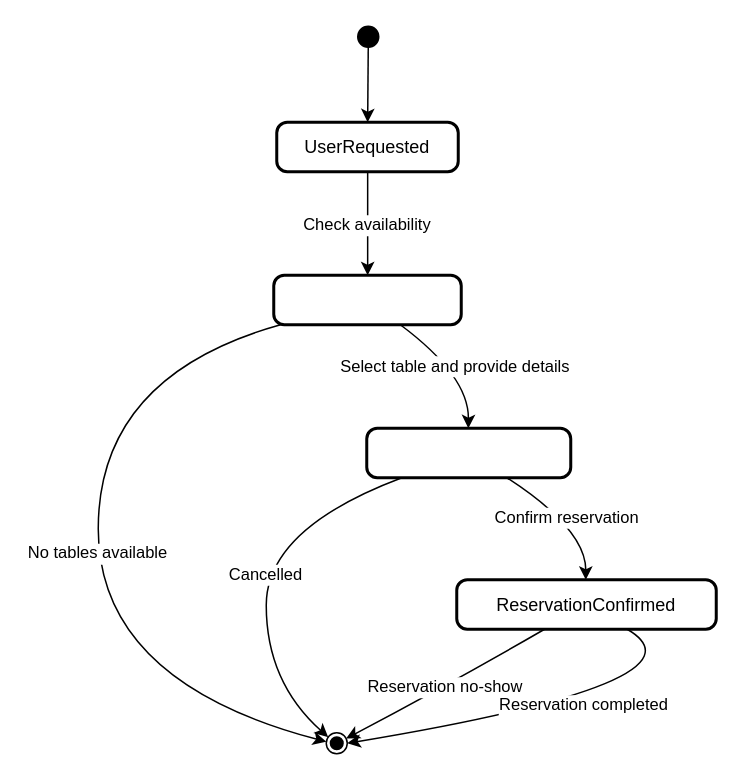
This 743x780 diagram has some shape labels left out. The shapes that lost their labels are listed below. From the top down, each one's centre as x and y in pixels, then its label:
At (367,299): "TablesAvailable".
At (468,452): "ReservationMade".
